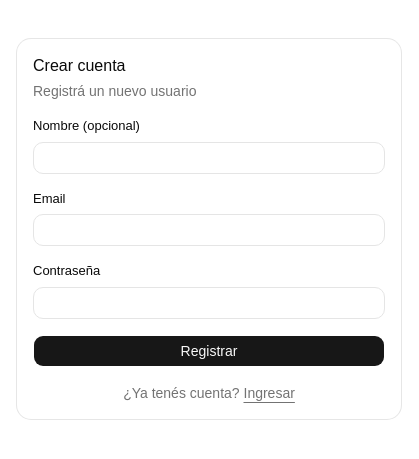
Register page › shows per-field required errors when submitting empty
Click the button "Registrar": (209, 351) x1=33 y1=335 x2=385 y2=367
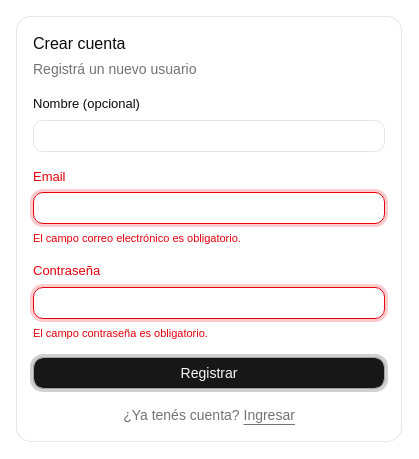
Expected: the text "El campo correo electrónico es obligatorio." is shown, x1=33 y1=230 x2=241 y2=246
Expected: the text "El campo contraseña es obligatorio." is shown, x1=33 y1=325 x2=208 y2=341
